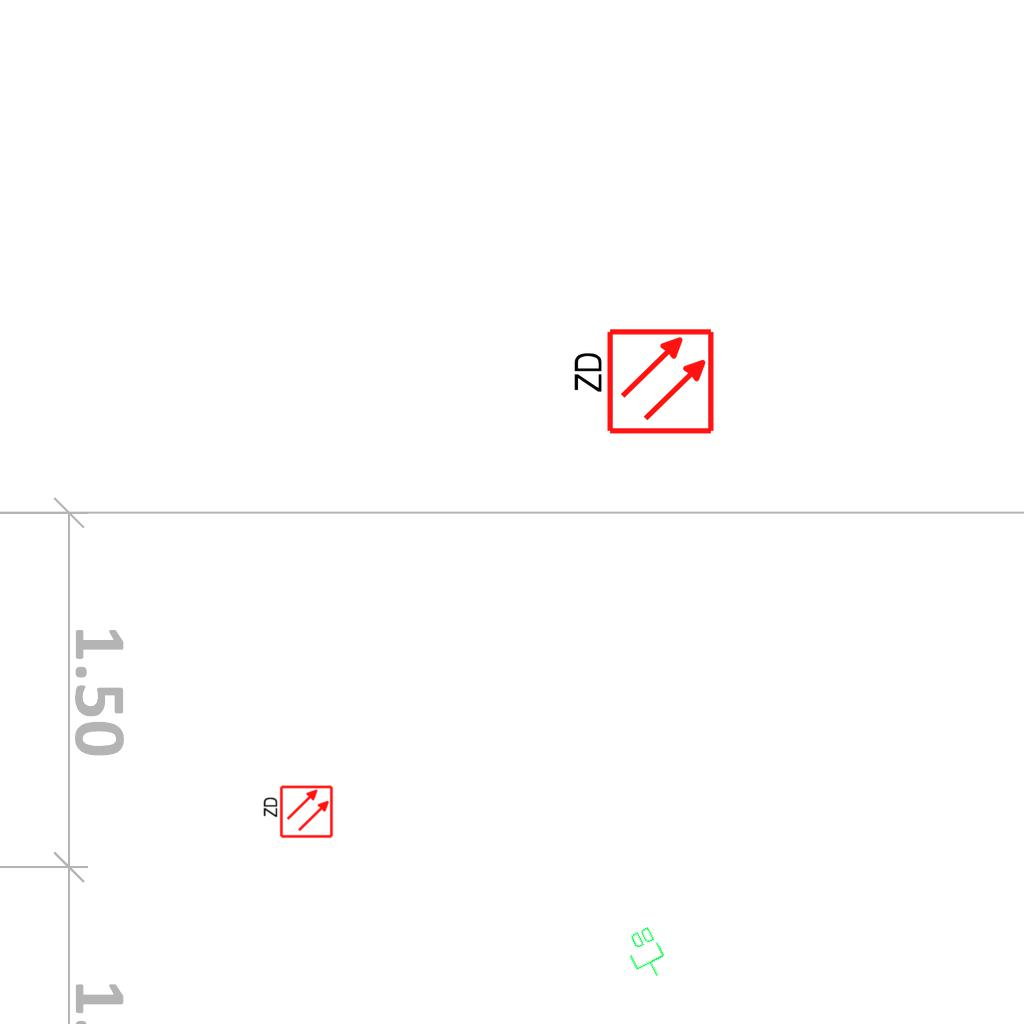Datenanschluss_zweifach: (619, 923, 674, 985)
ZD_Melder_in_Zwischendecke_mit_Revisionsoeffnung_mind_40_x_40_cm: (567, 326, 716, 440), (260, 784, 334, 841)
